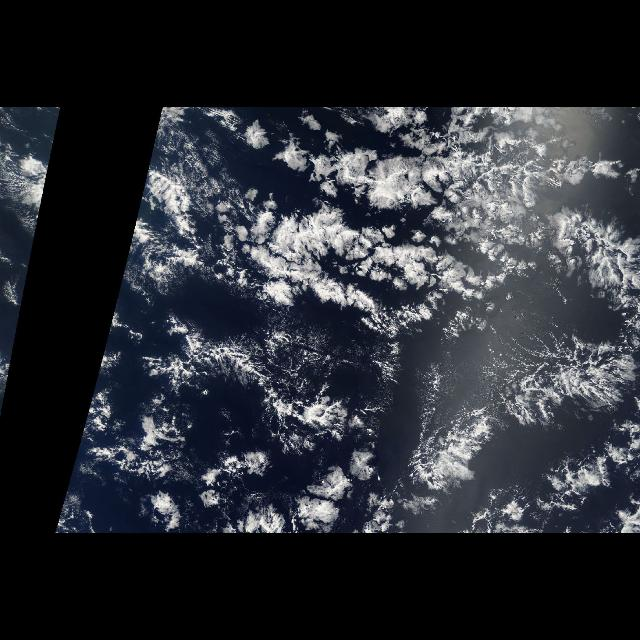Fish: (210, 130, 640, 324), (392, 330, 640, 492)
Flower: (101, 110, 482, 532)
